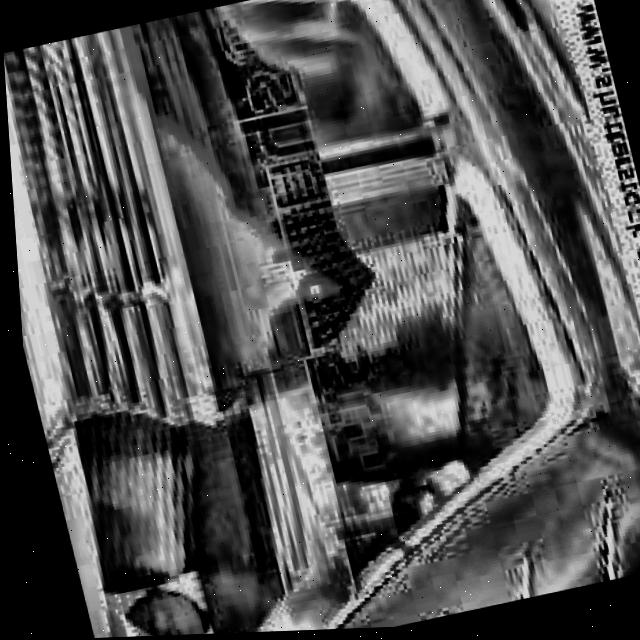tail_lamp: (219, 0, 551, 520), (54, 371, 311, 639)
